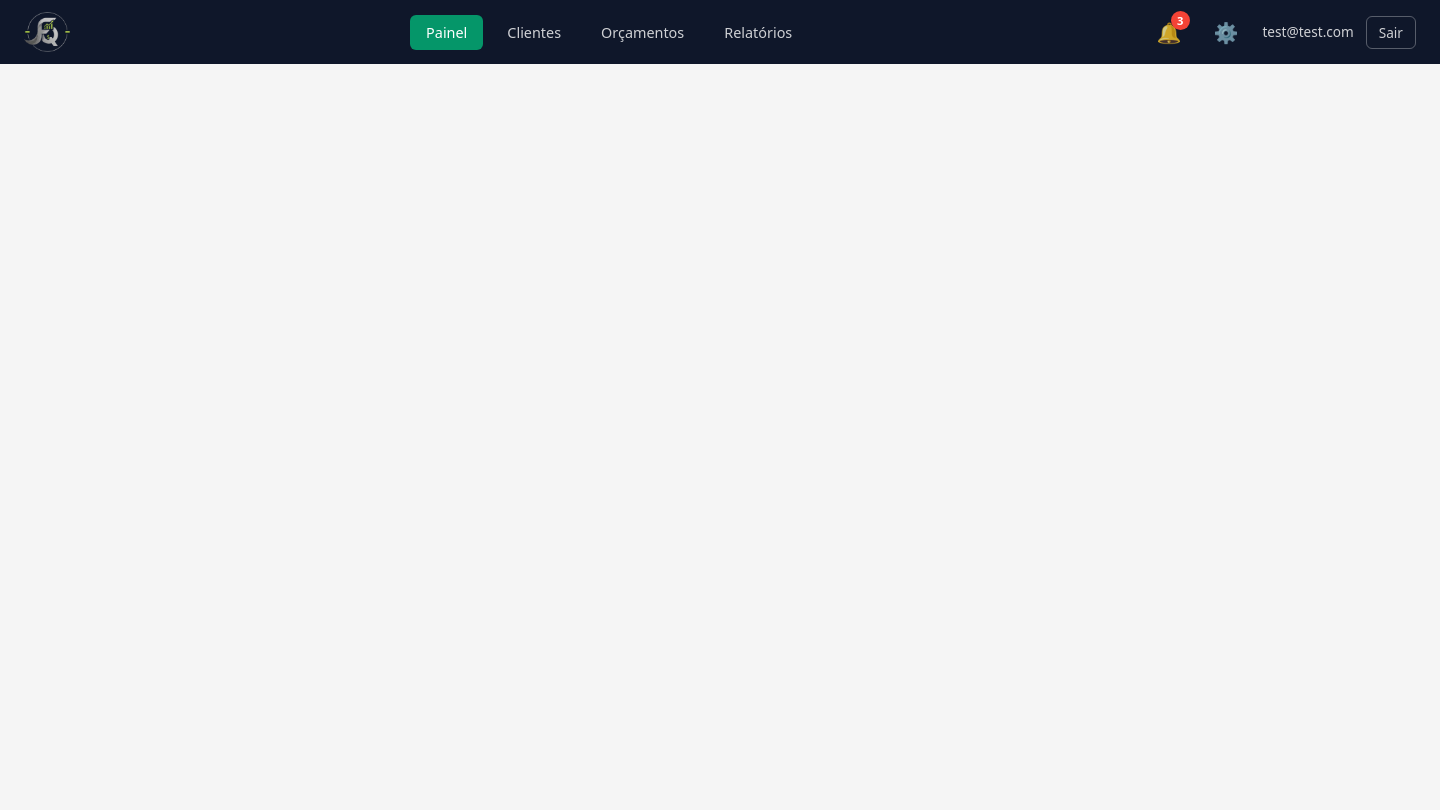
Test: AdminLayout › deve fechar modal ao clicar em Cancelar
The image size is (1440, 810).
Click the button "Sair" at (1391, 32), box left=1366, top=16, right=1416, bottom=48
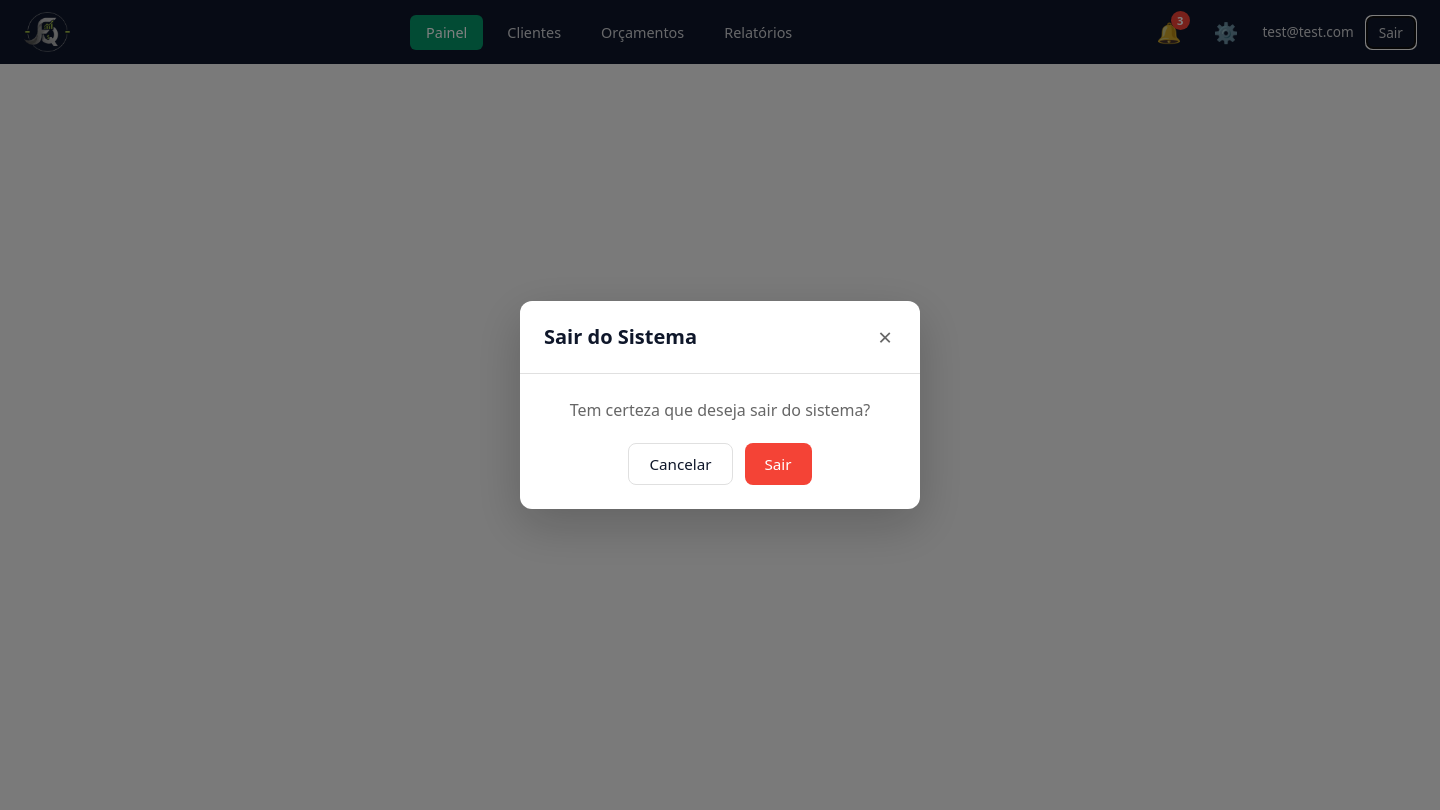
Expected: the heading "Sair do Sistema" is shown, left=544, top=321, right=697, bottom=353
Click the button "Cancelar" at (680, 464), box left=628, top=443, right=732, bottom=485
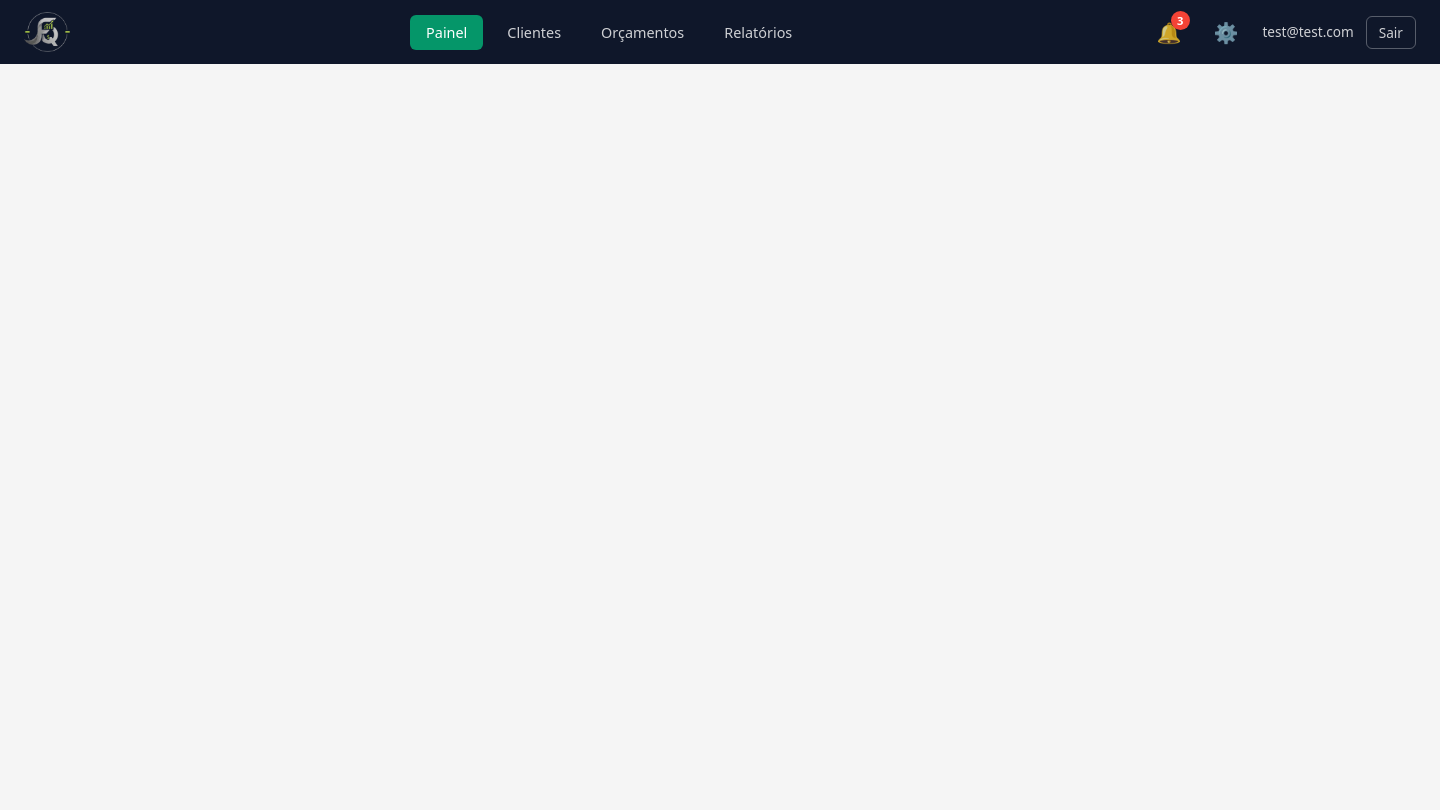
Expected: the heading "Sair do Sistema" is gone
